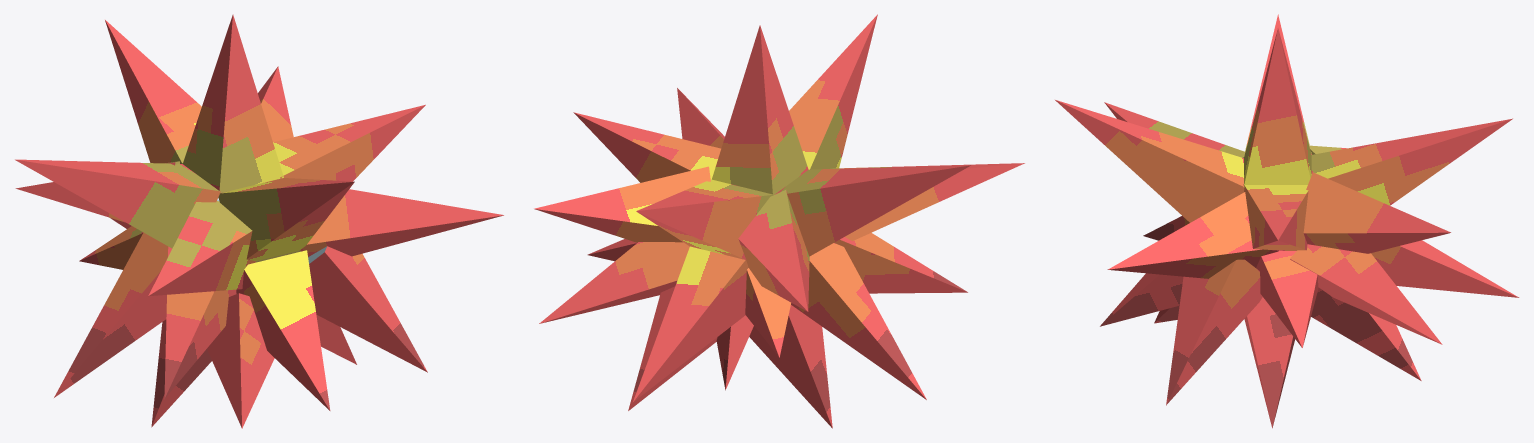
Rendered from HitFlash.gltf.
The picture shows the model from 3 angles, left to right: view 1: azimuth 30°, elevation 25°; view 2: azimuth 150°, elevation 25°; view 3: azimuth 270°, elevation 25°; orthographic projection. The views are drawn at different scales.
Parts seen in each view (by area): view 1: Flash; view 2: Flash; view 3: Flash.
Part boxes in pixels (x1,y1,x2,y2): Flash: [15, 14, 503, 428]; Flash: [534, 14, 1024, 428]; Flash: [1055, 14, 1519, 428].
Bounding box in the file's own units: 1.19 × 1.09 × 1.27.
Materials: 1 (1 with a texture image).
